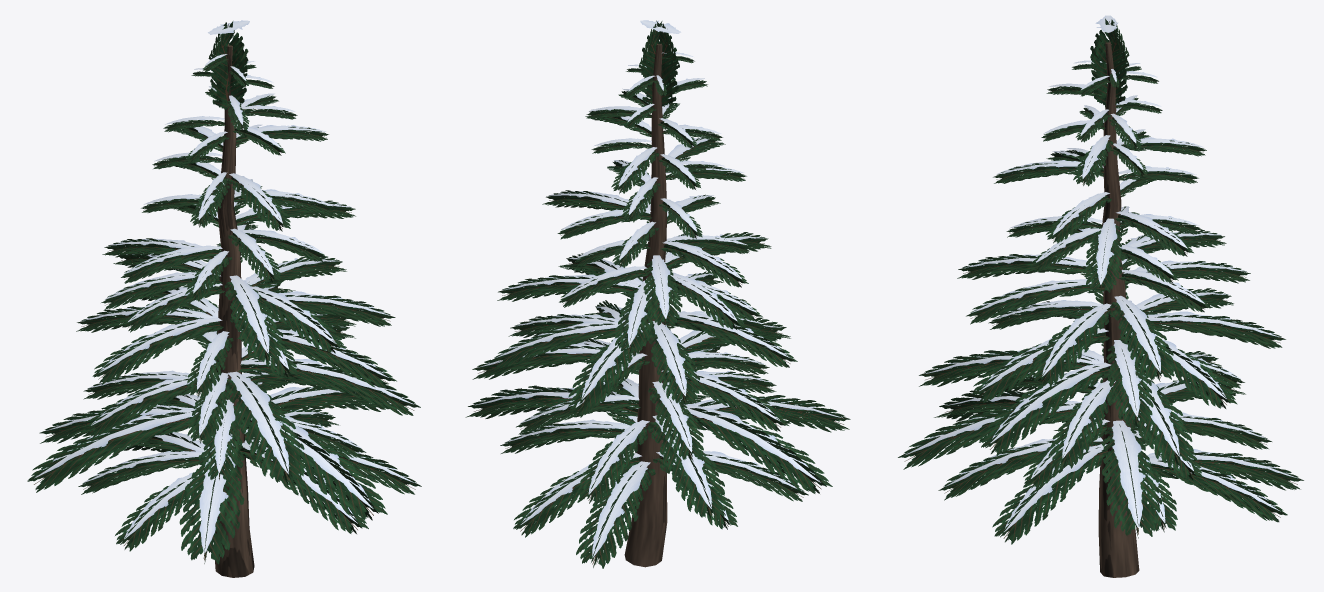
Rendered from SM_Snow_Spruce_B.glb.
3 views of the same model, side by side, from view 1: azimuth 30°, elevation 25°; view 2: azimuth 150°, elevation 25°; view 3: azimuth 270°, elevation 25° (orthographic). The views are drawn at different scales.
Parts seen in each view (by area): view 1: SM_Snow_Spruce_B; view 2: SM_Snow_Spruce_B; view 3: SM_Snow_Spruce_B.
Boxes of the visible parts, x1,y1,x2,y2 form: SM_Snow_Spruce_B: [27, 20, 421, 577]; SM_Snow_Spruce_B: [465, 20, 850, 568]; SM_Snow_Spruce_B: [898, 15, 1303, 577].
Size of the model in its own units: 2.16 by 3 by 2.07.
Materials: 3 (3 with a texture image).
